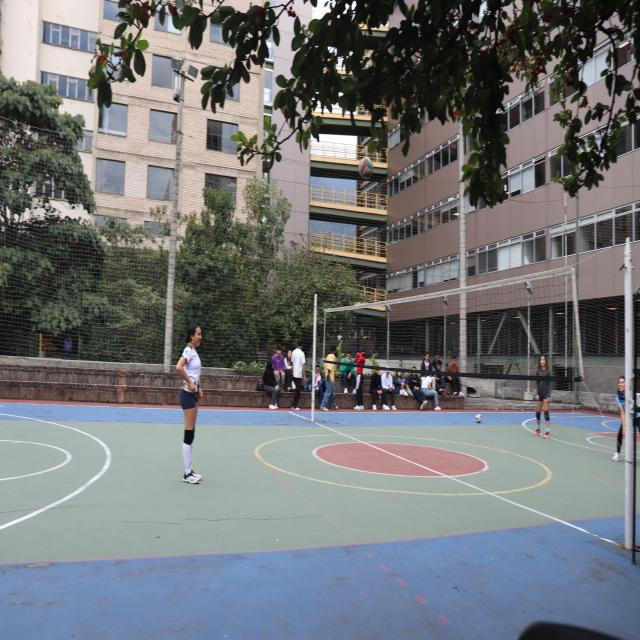volleyball: (359, 158, 373, 180), (476, 413, 482, 422)
